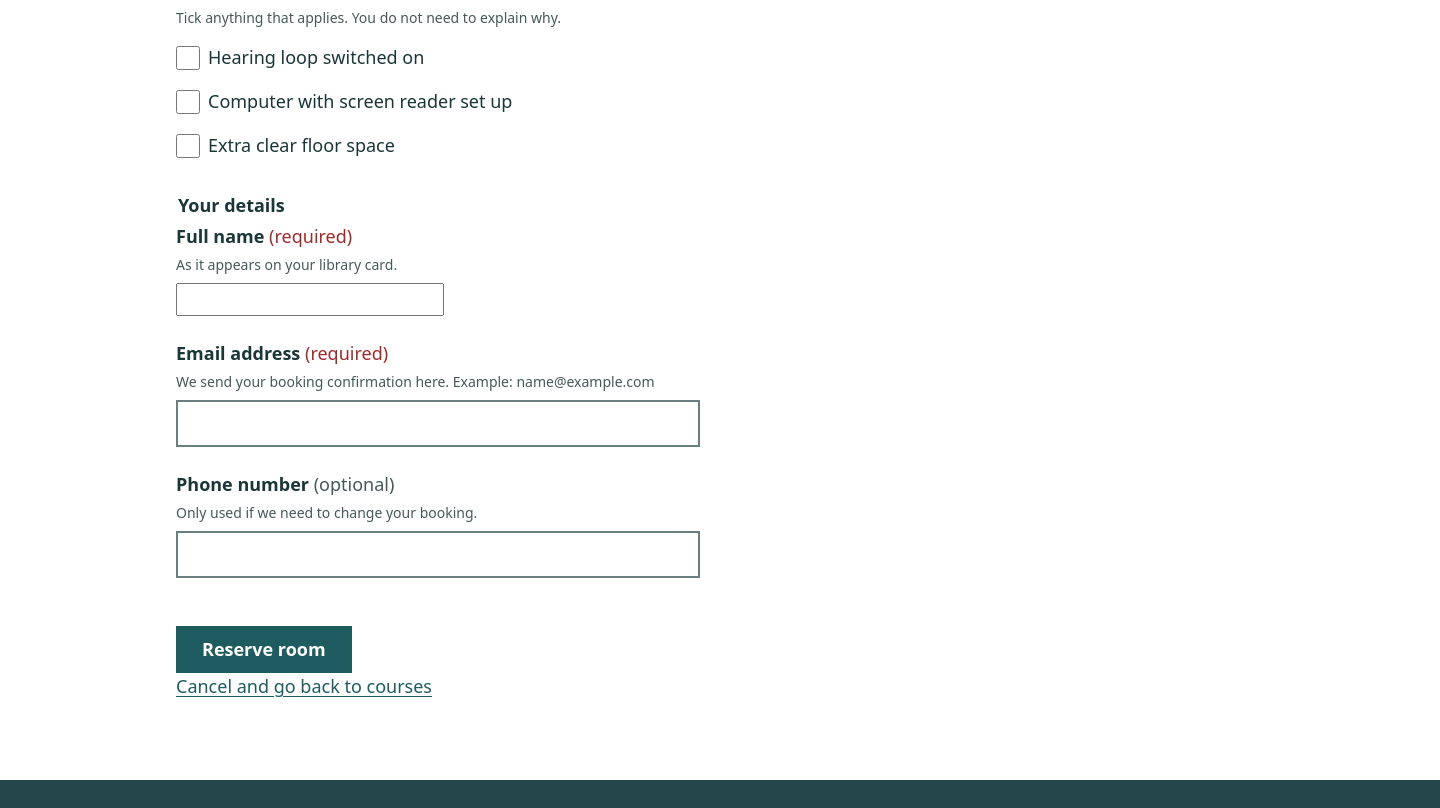
booking form › shows the email error inline (regression: key mismatch hid it)
(page scrolled)
Type "nope" into the field labelled "Email address (required)" at (438, 423), box [176,400,700,447]
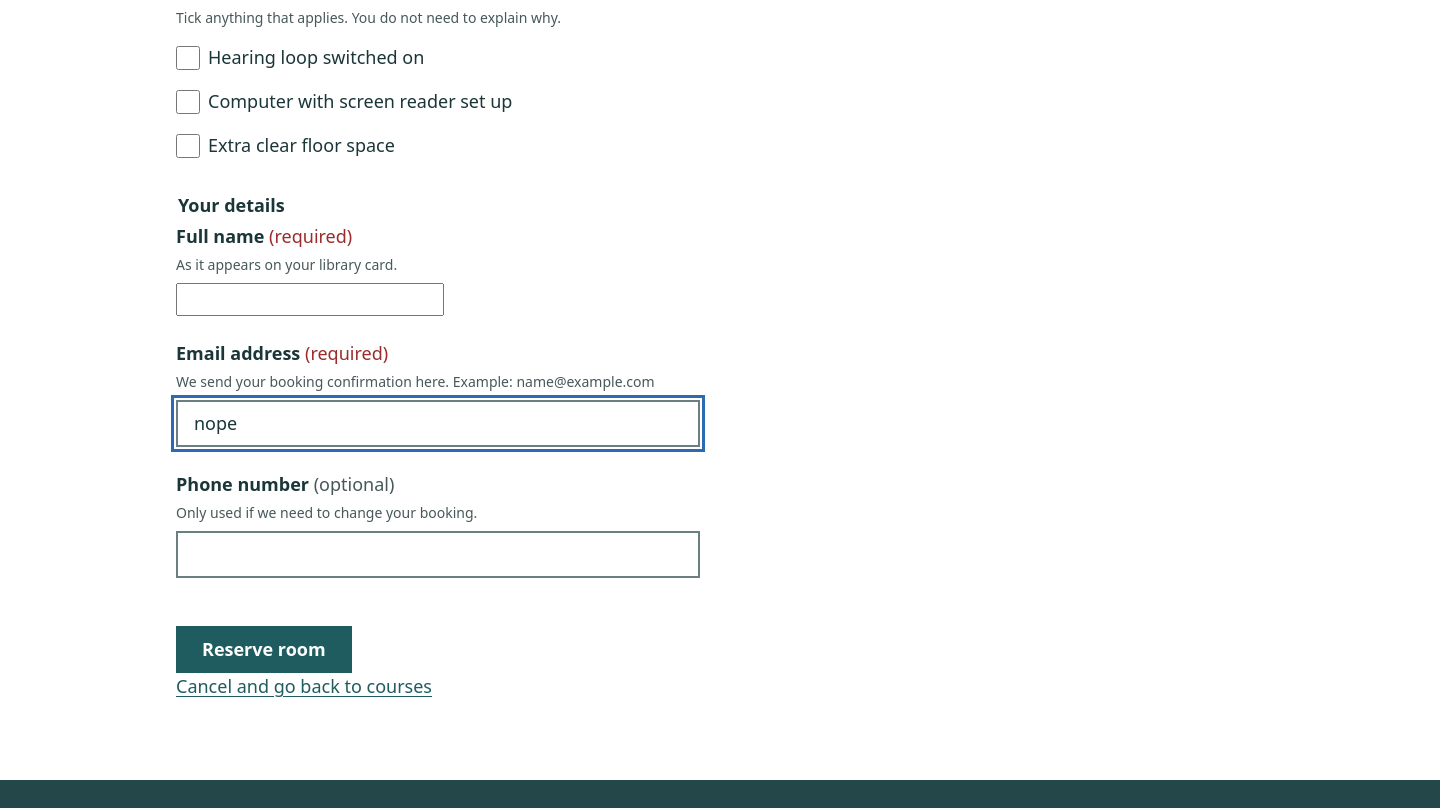
Press Tab
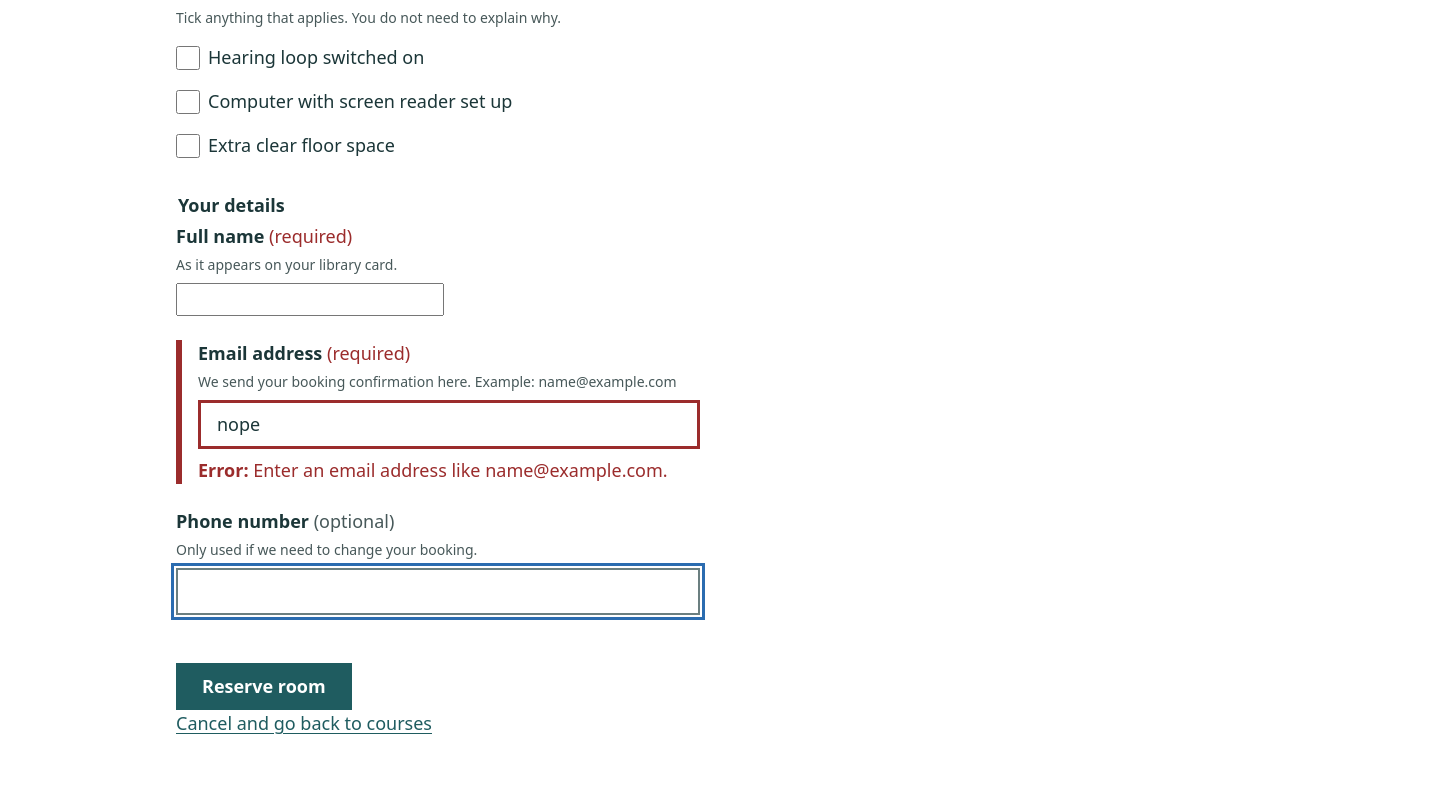
Expected: the text "Error: Enter an email address like name@example.com." is shown, [198,457,700,484]
